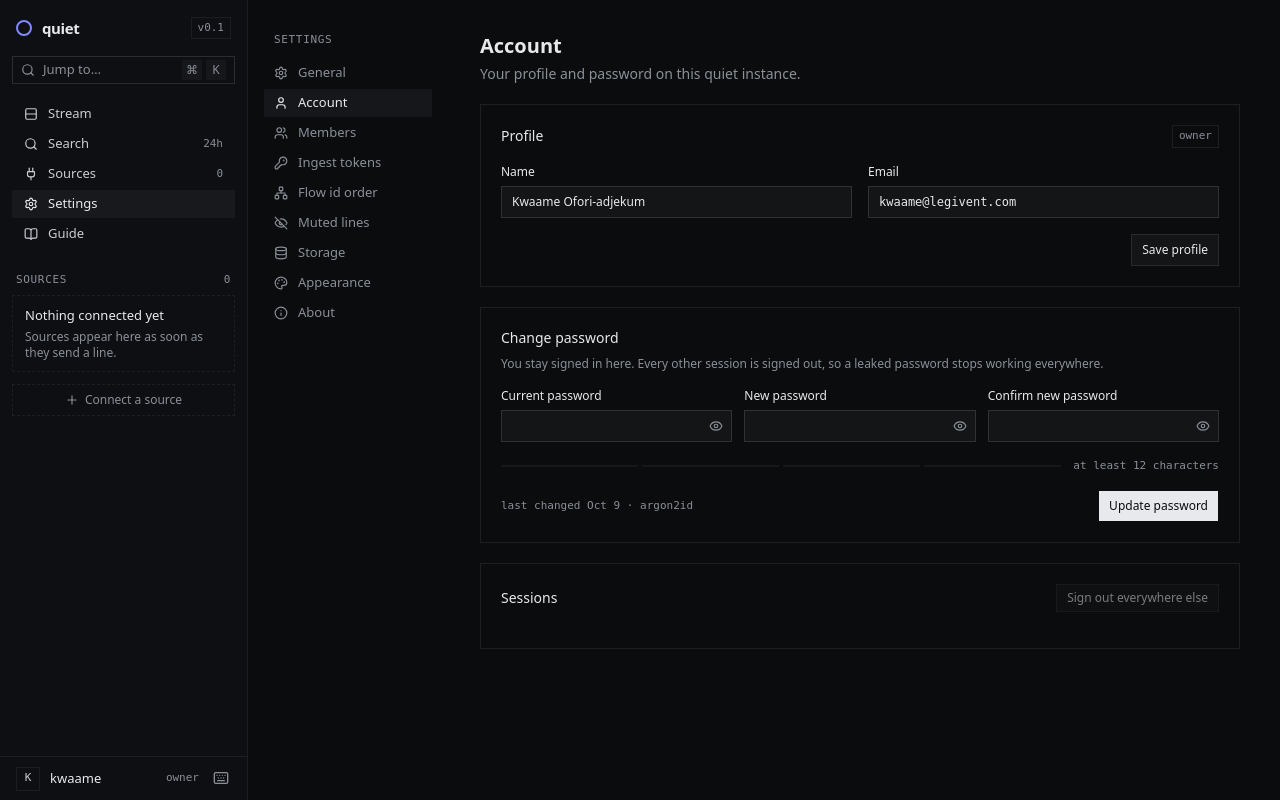
Test: session › a 401 mid-session shows "session expired"; signing in again keeps the page
Expected: the element "Sessions" is shown, [480,563,1240,649]
Click the link "Members" at (315,132), box [274,123,356,141]
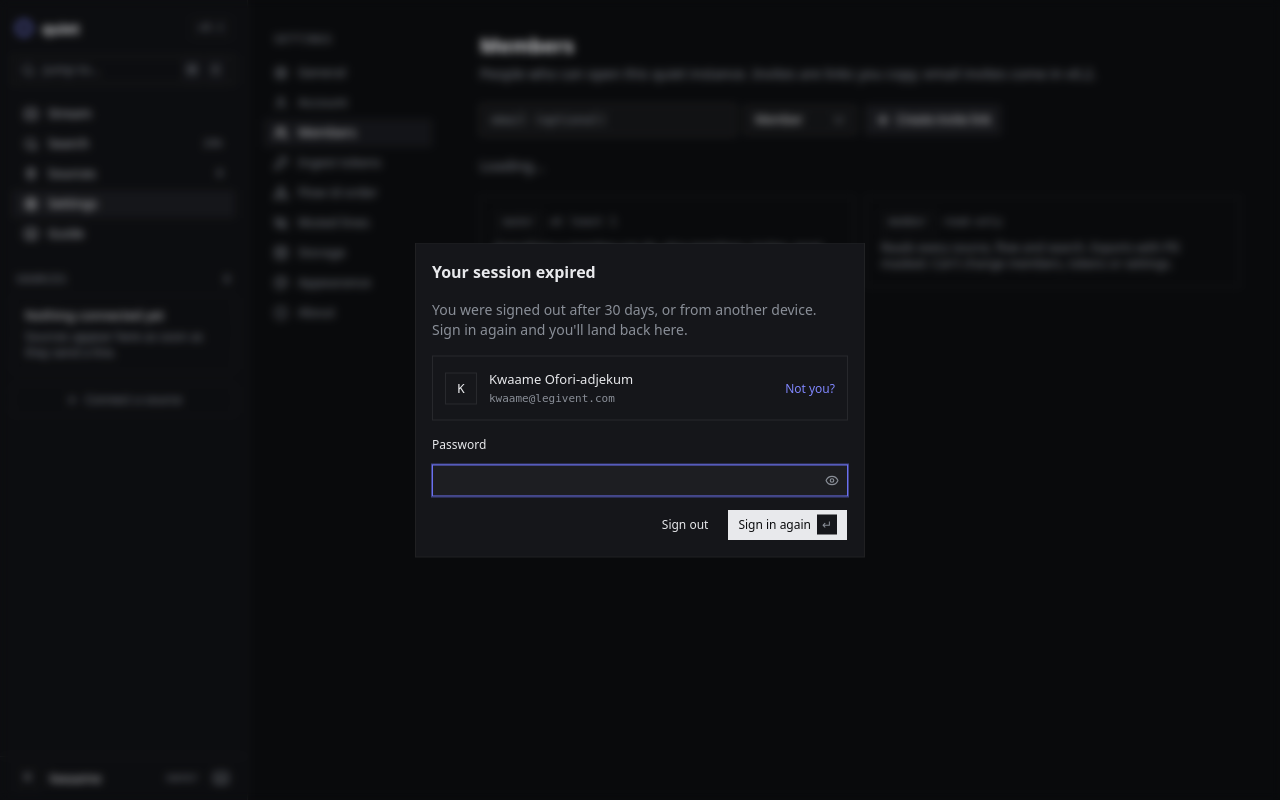
Result: the heading "Your session expired" is shown at [432,260,596,282]
Result: the text "kwaame@legivent.com" is shown at [489,392,615,405]
Type "correct horse battery" into the password field labelled "Password" at (640,480), box [432,464,848,496]
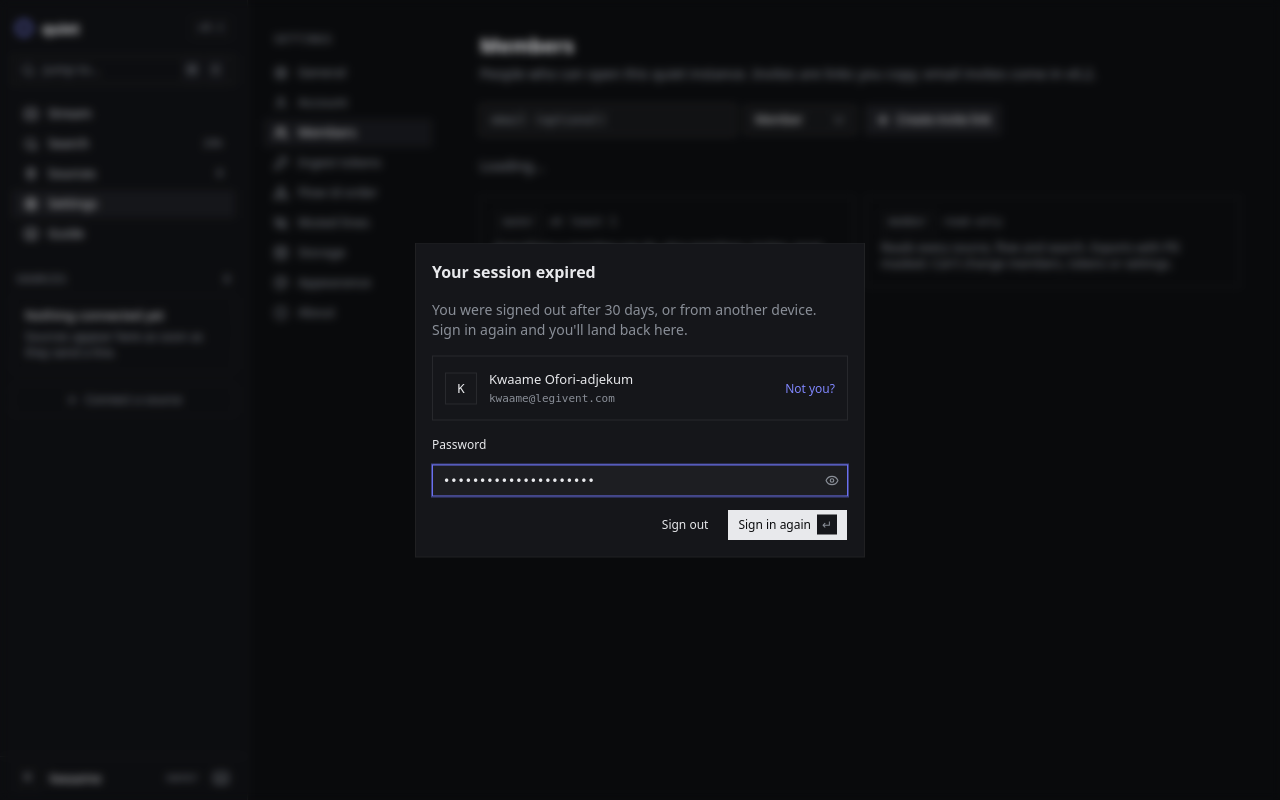
Click the button "Sign in again ↵" at (788,524), box [727,508,848,540]
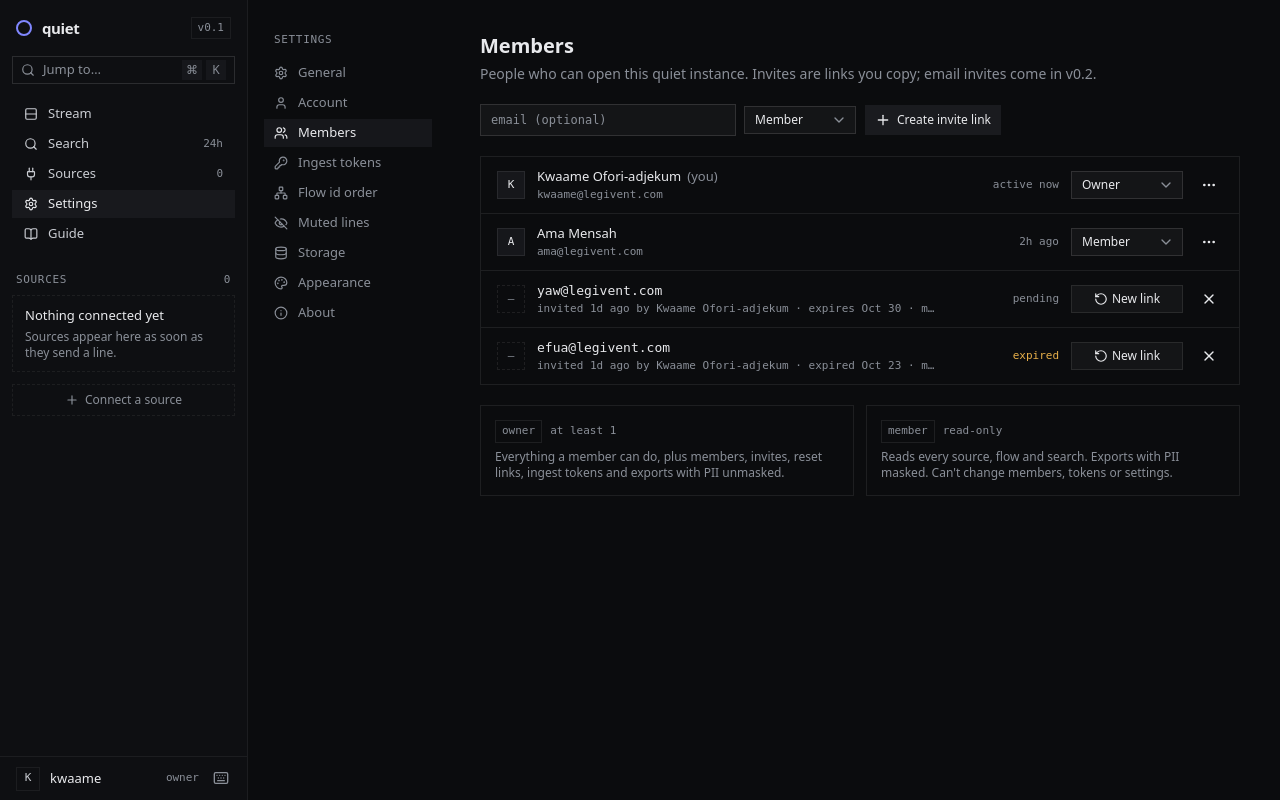
Result: the dialog is gone
